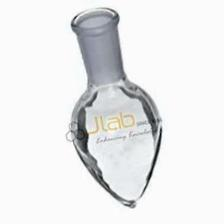Pear shaped flask: (52, 9, 163, 212)
